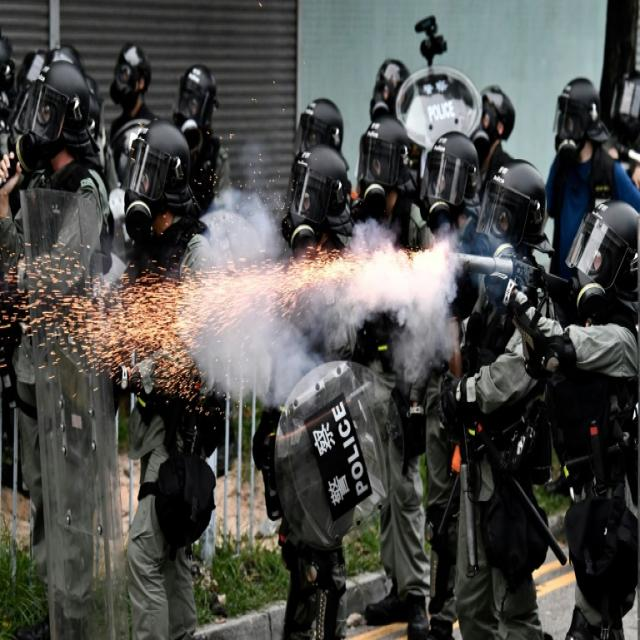police: (441, 149, 639, 640), (232, 88, 376, 640), (0, 32, 118, 640), (418, 135, 555, 640), (86, 106, 210, 640), (352, 106, 435, 640)
